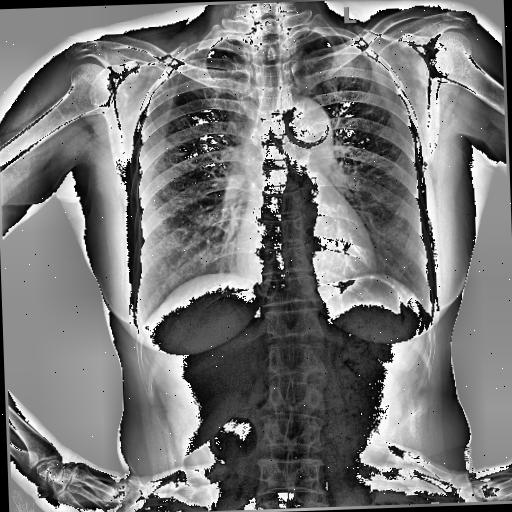0- Aortic enlargement: (278, 92, 334, 178), (279, 92, 335, 158), (282, 92, 334, 162)
5- ILD: (130, 108, 228, 314)
